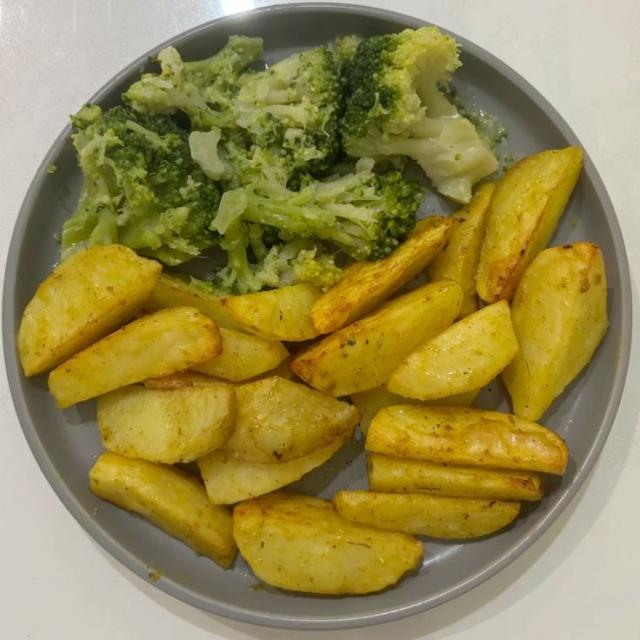broccoli: (213, 160, 421, 292), (341, 27, 497, 202), (62, 105, 219, 265), (234, 47, 340, 175), (123, 36, 262, 130), (213, 219, 341, 294), (331, 34, 363, 73)
frayed potatoe: (291, 280, 461, 397), (233, 492, 423, 594), (502, 242, 607, 421), (18, 244, 161, 375), (90, 452, 237, 568), (50, 308, 220, 407), (311, 217, 452, 333), (476, 147, 582, 300), (365, 404, 568, 474), (387, 300, 518, 400), (197, 429, 352, 503), (227, 376, 358, 463), (97, 384, 236, 463), (428, 183, 494, 318), (334, 490, 519, 538), (368, 454, 543, 501), (144, 272, 243, 332), (223, 283, 321, 341), (193, 328, 288, 381)
